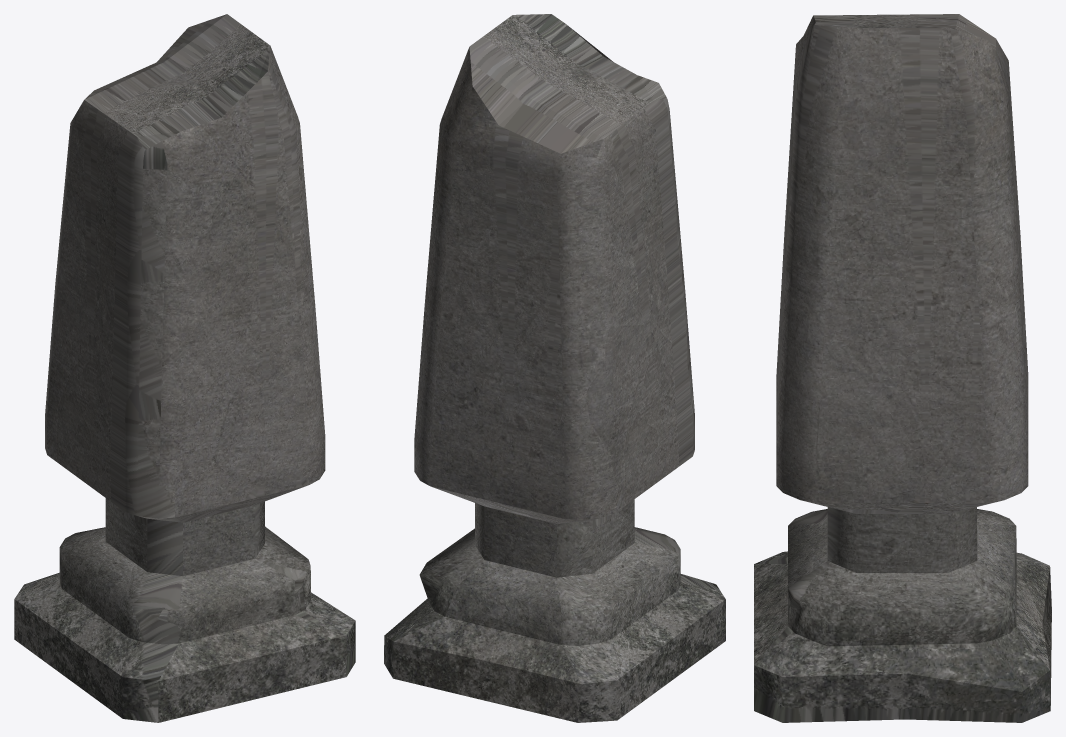
The model's file is Pillar_Boss_2.fbx.
The picture shows the model from 3 angles, left to right: view 1: azimuth 30°, elevation 25°; view 2: azimuth 150°, elevation 25°; view 3: azimuth 270°, elevation 25°; orthographic projection. The views are drawn at different scales.
Visible parts, largest first — view 1: Pillar_Boss_2; view 2: Pillar_Boss_2; view 3: Pillar_Boss_2.
Boxes of the visible parts, x1=… form: Pillar_Boss_2: x1=14, y1=14, x2=355, y2=722; Pillar_Boss_2: x1=384, y1=14, x2=725, y2=722; Pillar_Boss_2: x1=754, y1=14, x2=1051, y2=722.
Size of the model in its own units: 1.75 by 4.35 by 1.76.
Materials: 1 (1 with a texture image).
